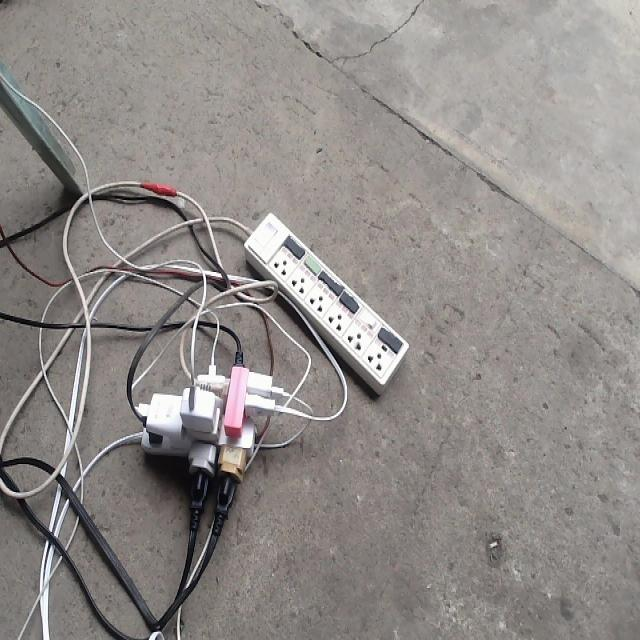-: (128, 321, 284, 535)
